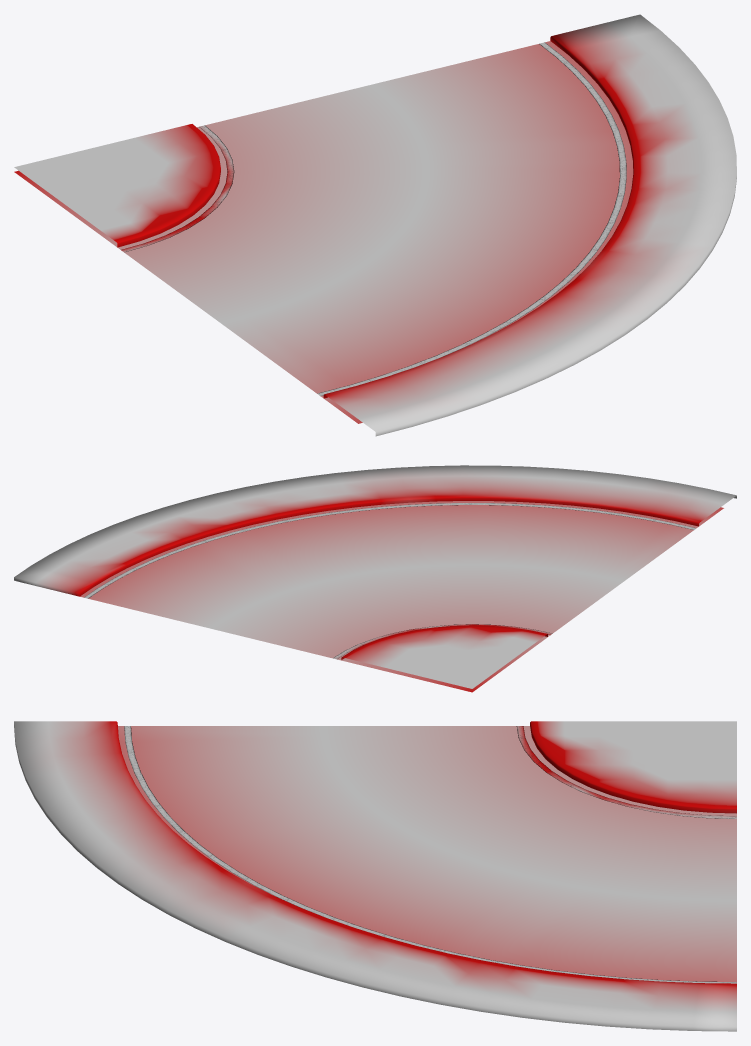
Rendered from Street_Curve_4LaneLong.gltf.
The picture shows the model from 3 angles, top to bottom: view 1: azimuth 30°, elevation 25°; view 2: azimuth 150°, elevation 25°; view 3: azimuth 270°, elevation 25°; orthographic projection. The views are drawn at different scales.
Parts seen in each view (by area): view 1: Street_Curve_4LaneLong; view 2: Street_Curve_4LaneLong; view 3: Street_Curve_4LaneLong.
Boxes of the visible parts, x1=… form: Street_Curve_4LaneLong: x1=14, y1=14, x2=736, y2=436; Street_Curve_4LaneLong: x1=14, y1=465, x2=736, y2=692; Street_Curve_4LaneLong: x1=14, y1=721, x2=736, y2=1031.
Size of what is drawn, in the model's own units: 21 by 0.15 by 21.
